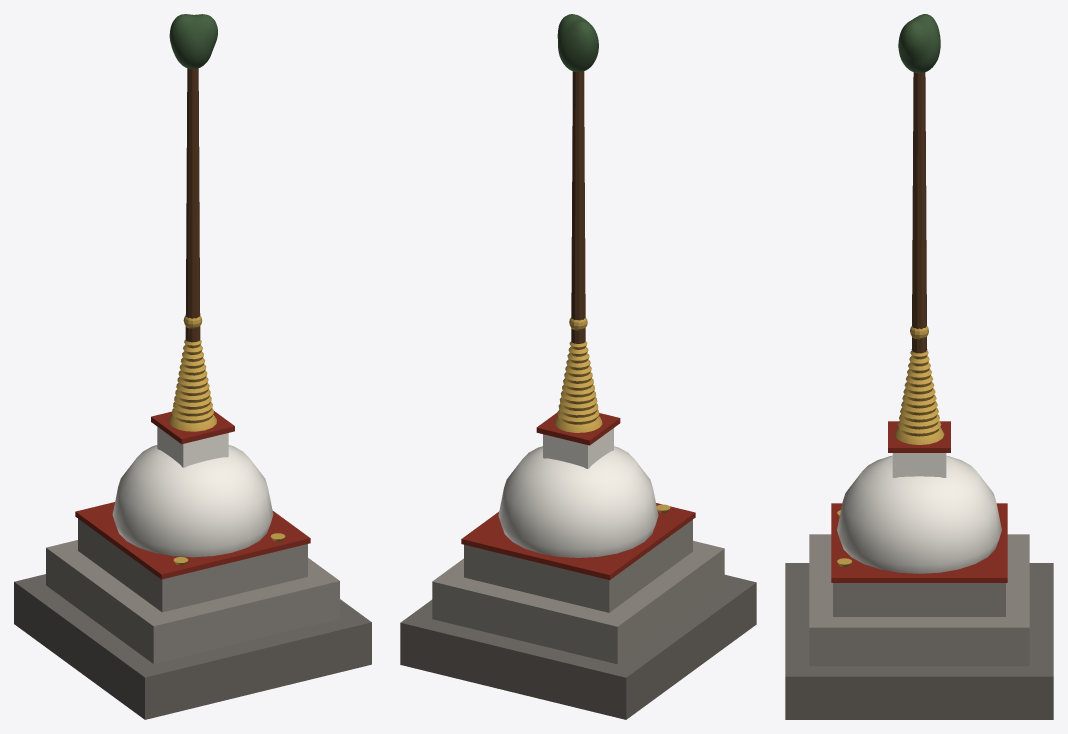
Rendered from chorten.glb.
3 renders of one model, left to right at view 1: azimuth 30°, elevation 25°; view 2: azimuth 150°, elevation 25°; view 3: azimuth 270°, elevation 25°, orthographic. The views are drawn at different scales.
Parts seen in each view (by area): view 1: stoneDark0, stone1, white4, stone2, red3, pole9, gilt7, juniper10, white5, red6; view 2: stoneDark0, stone1, white4, stone2, red3, pole9, gilt7, juniper10, white5, red6; view 3: stoneDark0, stone1, white4, stone2, red3, pole9, gilt7, juniper10, white5, red6.
Part boxes in pixels (x1,y1,x2,y2): stoneDark0: (14, 574, 371, 719); stone1: (46, 540, 339, 663); white4: (112, 445, 273, 557); stone2: (78, 519, 307, 612); red3: (75, 502, 310, 579); pole9: (185, 68, 200, 342); gilt7: (169, 339, 216, 431); juniper10: (169, 14, 217, 69); white5: (157, 427, 228, 467); red6: (151, 411, 234, 444); stoneDark0: (400, 574, 756, 719); stone1: (432, 540, 724, 664); white4: (498, 446, 658, 557); stone2: (464, 519, 692, 612); red3: (461, 503, 695, 580); pole9: (571, 71, 585, 343); gilt7: (554, 341, 602, 432); juniper10: (557, 14, 598, 72); white5: (543, 428, 613, 468); red6: (536, 412, 620, 445); stoneDark0: (785, 563, 1053, 719); stone1: (809, 534, 1029, 666); white4: (837, 455, 1001, 573); stone2: (833, 583, 1005, 616); red3: (831, 503, 1007, 582); pole9: (911, 72, 927, 353); gilt7: (894, 351, 944, 444); juniper10: (898, 14, 940, 73); white5: (892, 453, 946, 477); red6: (888, 421, 950, 452).
Size of the model in its own units: 2.8 by 7.42 by 2.8.
